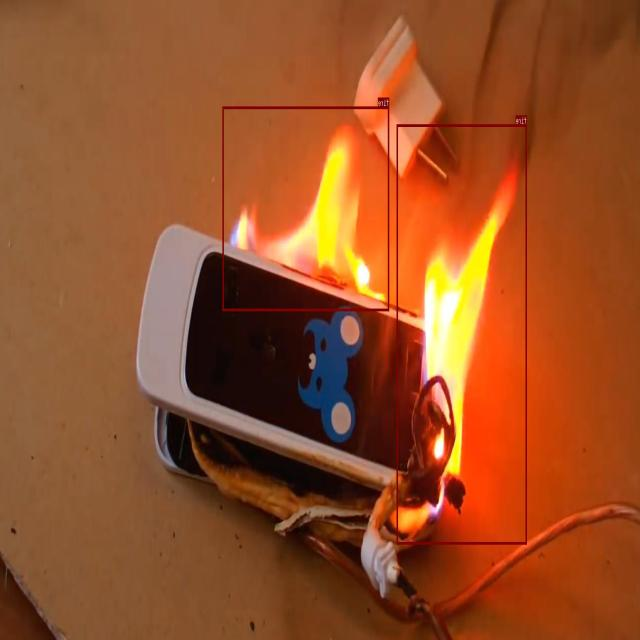fire: (397, 124, 527, 544), (223, 106, 389, 310)
